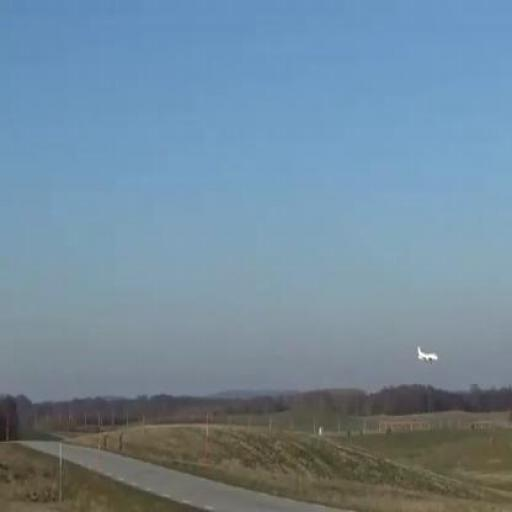aircraft: (418, 345, 440, 363)
